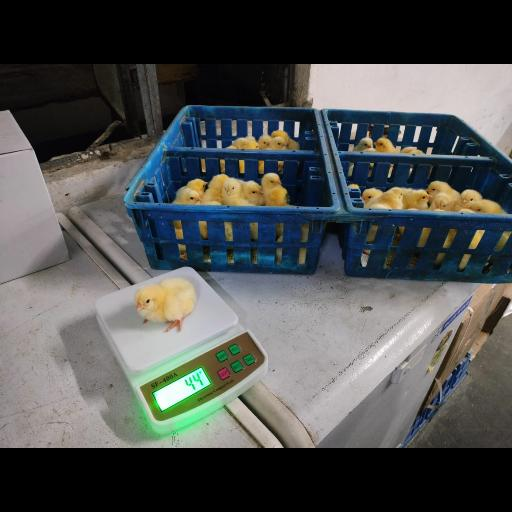chick: (134, 278, 195, 332)
